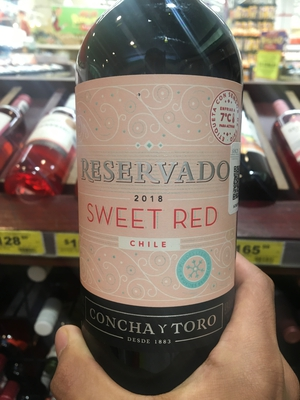reservado sweet red: (75, 6, 254, 400)
